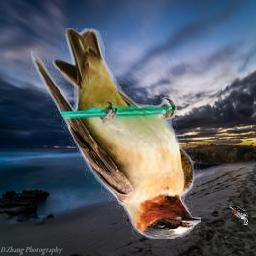Swallow: (31, 29, 201, 240)
Woodpecker: (230, 205, 249, 225)
